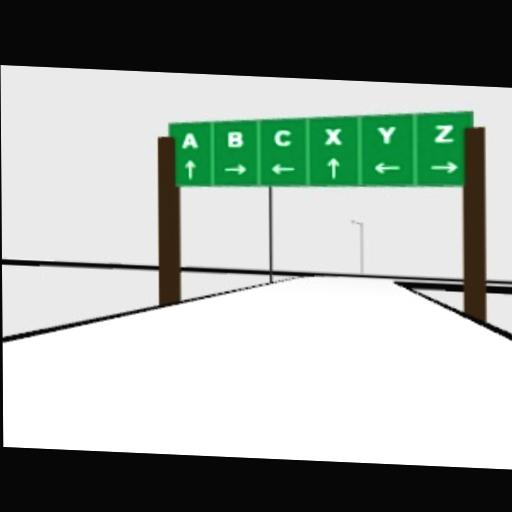A: (180, 131, 198, 149)
B: (226, 130, 244, 147)
C: (274, 129, 291, 146)
Left: (374, 162, 403, 175), (269, 162, 295, 175)
Right: (430, 159, 459, 174), (223, 162, 247, 175)
Straight: (327, 156, 339, 177), (184, 159, 196, 178)
X: (323, 127, 342, 145)
Y: (377, 124, 397, 144)
Z: (433, 122, 455, 143)
